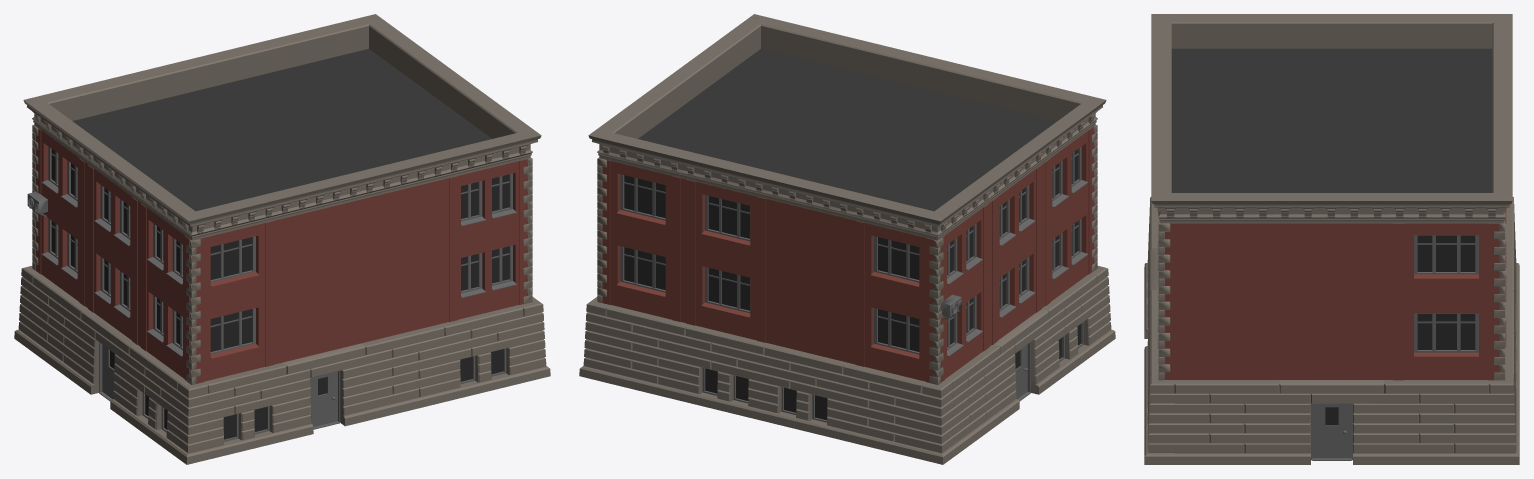
The model's file is Building6.fbx.
3 views of the same model, side by side, from view 1: azimuth 30°, elevation 25°; view 2: azimuth 150°, elevation 25°; view 3: azimuth 270°, elevation 25° (orthographic). The views are drawn at different scales.
Parts seen in each view (by area): view 1: building_base; view 2: building_base; view 3: building_base.
Boxes of the visible parts, left/top/right/bottom form: building_base: left=14, top=14, right=550, bottom=464; building_base: left=579, top=14, right=1115, bottom=464; building_base: left=1144, top=14, right=1519, bottom=464.
Size of the model in its own units: 1588 by 1001 by 1305.
